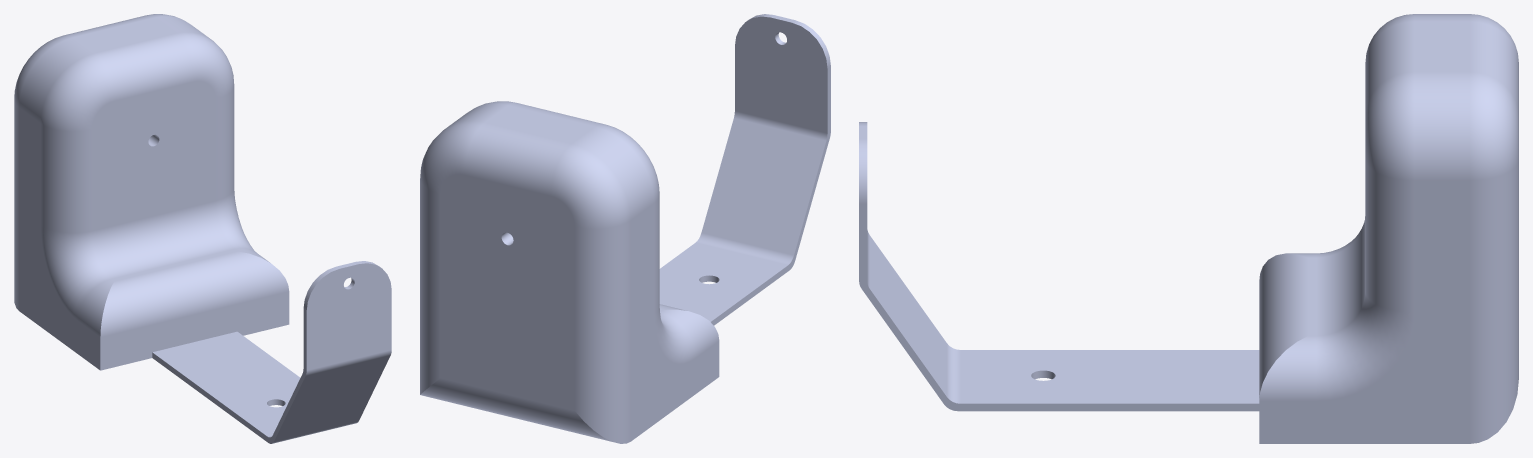
The model's file is psm_base.dae.
3 renders of one model, left to right at view 1: azimuth 30°, elevation 25°; view 2: azimuth 150°, elevation 25°; view 3: azimuth 270°, elevation 25°, orthographic. The views are drawn at different scales.
Visible parts, largest first — view 1: Actor0; view 2: Actor0; view 3: Actor0.
Part boxes in pixels (left/top/right/bottom): Actor0: left=14, top=14, right=391, bottom=443; Actor0: left=420, top=14, right=830, bottom=443; Actor0: left=859, top=14, right=1518, bottom=443.
Bounding box in the file's own units: 0.173 × 0.228 × 0.404.
